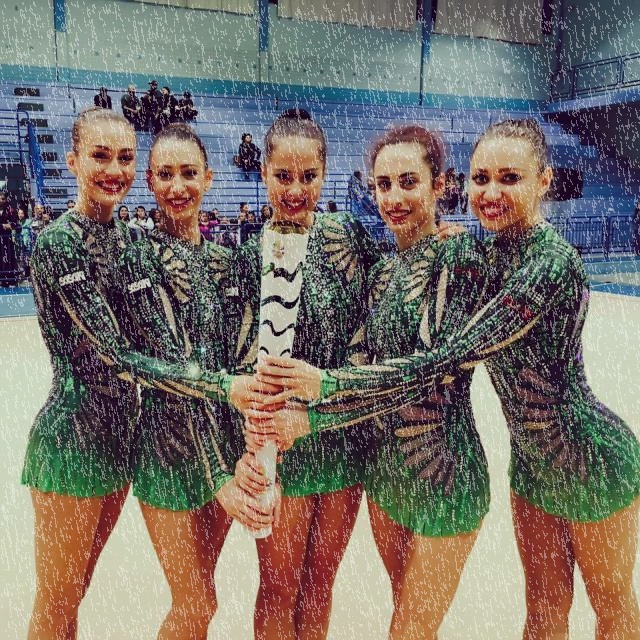pessoa: (8, 102, 282, 640), (244, 124, 500, 638), (242, 121, 495, 640), (228, 106, 470, 638), (116, 128, 278, 640), (0, 190, 18, 288), (10, 207, 32, 282), (238, 132, 263, 182), (346, 169, 369, 217), (155, 84, 178, 132), (126, 204, 155, 240), (441, 166, 461, 216), (148, 78, 164, 132), (121, 84, 142, 124), (197, 210, 219, 247), (174, 89, 198, 121), (628, 195, 640, 258), (452, 172, 469, 216), (32, 213, 52, 248), (364, 168, 382, 199), (92, 86, 112, 110), (218, 214, 232, 248), (238, 212, 252, 245), (257, 204, 275, 229), (197, 210, 210, 242), (436, 191, 452, 216), (148, 207, 164, 230), (8, 188, 28, 206), (140, 89, 154, 111), (32, 203, 46, 222), (116, 204, 130, 223), (223, 218, 240, 231), (243, 210, 257, 223), (326, 200, 339, 213), (240, 202, 250, 216), (312, 203, 326, 213), (66, 200, 76, 210), (212, 208, 222, 218), (44, 204, 54, 214), (369, 188, 376, 201), (204, 210, 212, 216)
